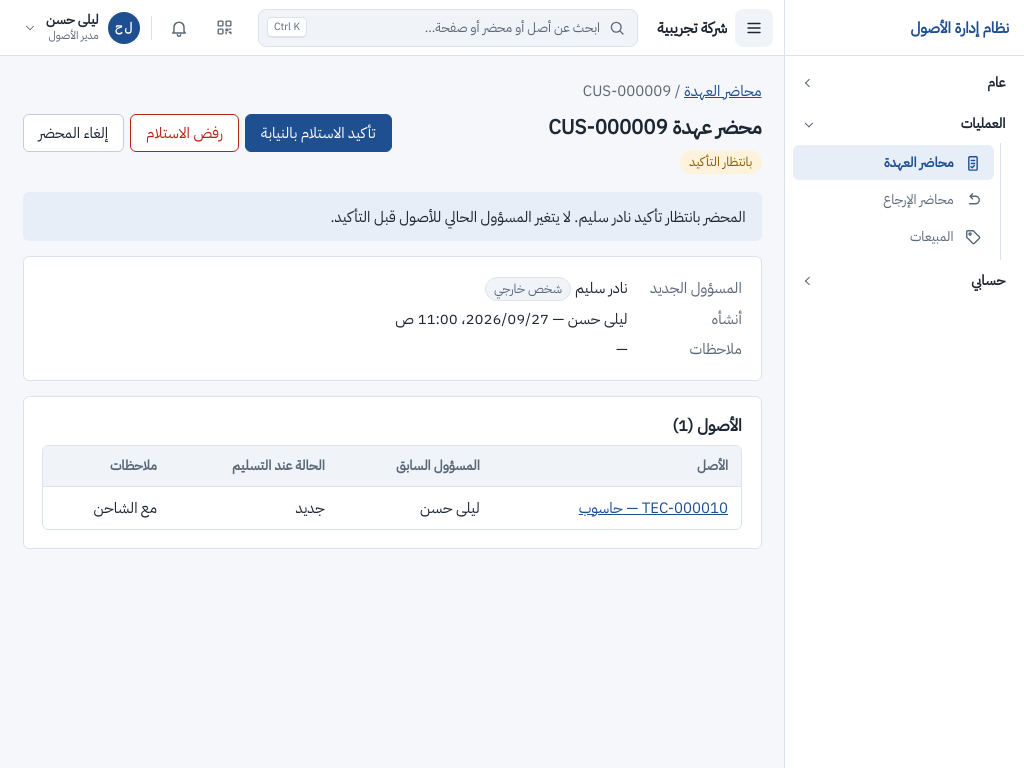
Test: Custody confirmation (receiver) › an external person is confirmed on their behalf by an authorised user
Click the button "تأكيد الاستلام بالنيابة". click: (318, 133)
box: top-left (245, 114), bottom-right (392, 152)
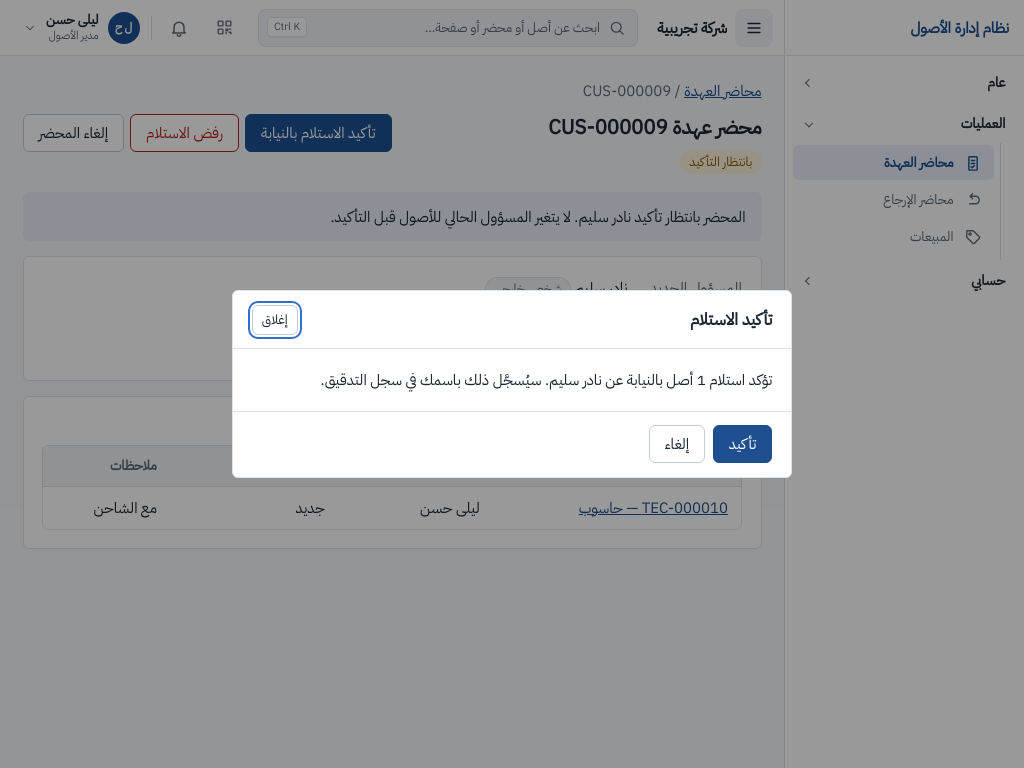
Result: the dialog shows "بالنيابة عن نادر سليم" at top-left (321, 369), bottom-right (772, 391)
